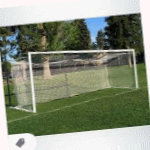goals: (9, 48, 144, 116)
